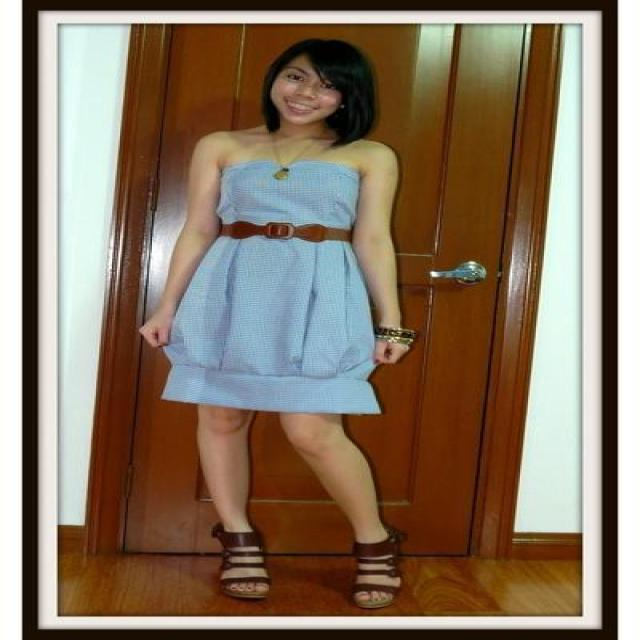dress: (162, 158, 379, 413)
shoe: (205, 522, 408, 600)
